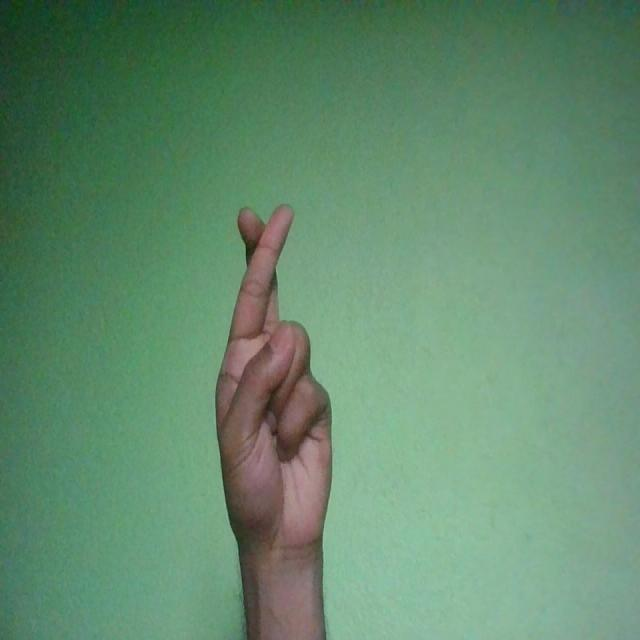Ok: (213, 204, 333, 562)
